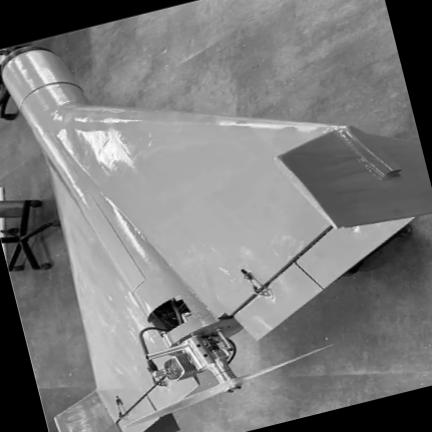Shahed: (0, 44, 432, 432)
